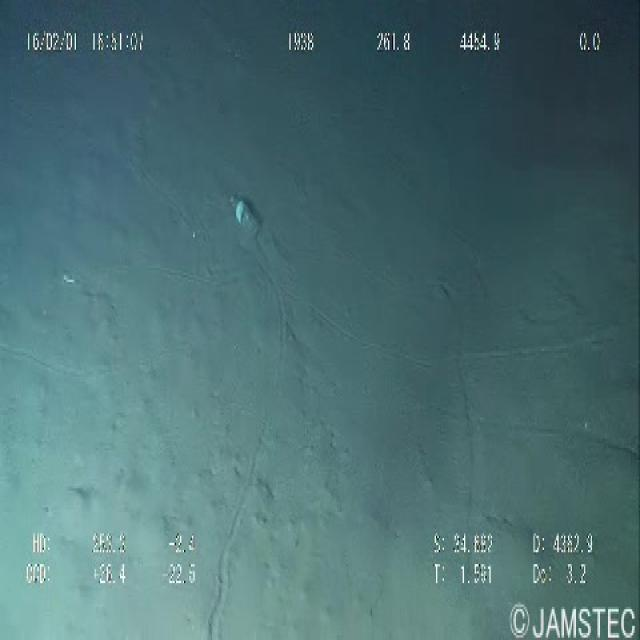plastic: (218, 178, 270, 246)
